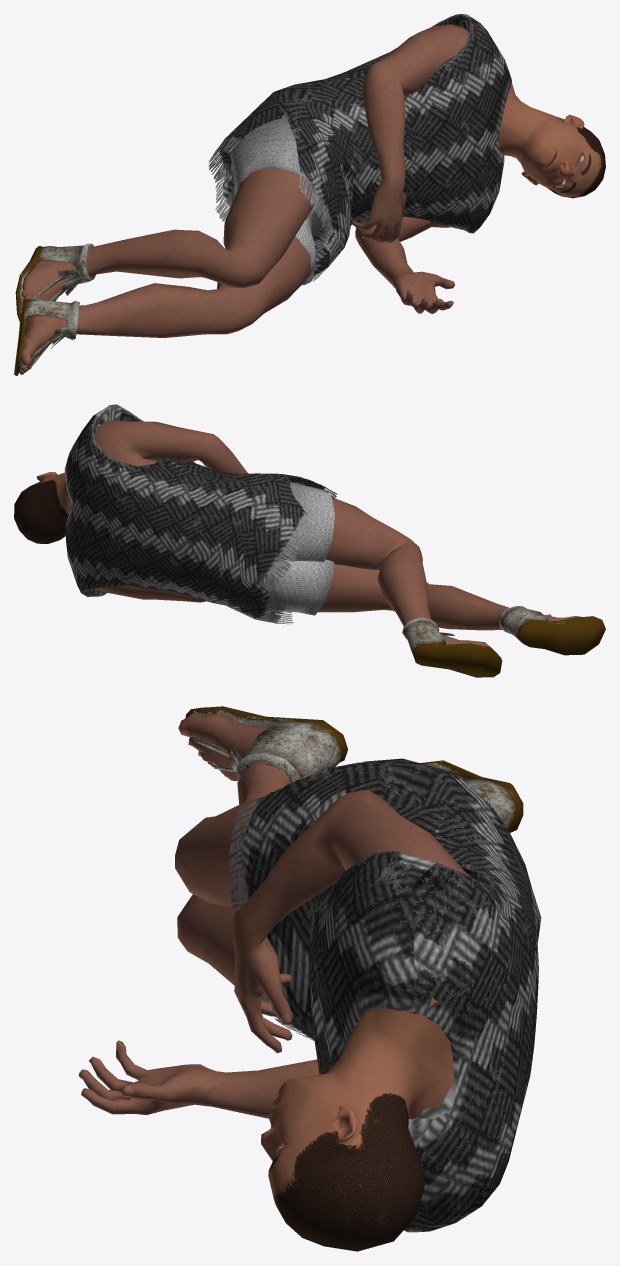
File: Dead NPC LOD2.fbx
The picture shows the model from 3 angles, top to bottom: view 1: azimuth 30°, elevation 25°; view 2: azimuth 150°, elevation 25°; view 3: azimuth 270°, elevation 25°; orthographic projection. The views are drawn at different scales.
Parts seen in each view (by area): view 1: DeadNPCLOD1; view 2: DeadNPCLOD1; view 3: DeadNPCLOD1.
Boxes of the visible parts, bbox=[...] form: DeadNPCLOD1: bbox=[14, 14, 605, 375]; DeadNPCLOD1: bbox=[14, 404, 605, 677]; DeadNPCLOD1: bbox=[78, 706, 541, 1251].
Bounding box in the file's own units: 168 × 55.54 × 61.61.
